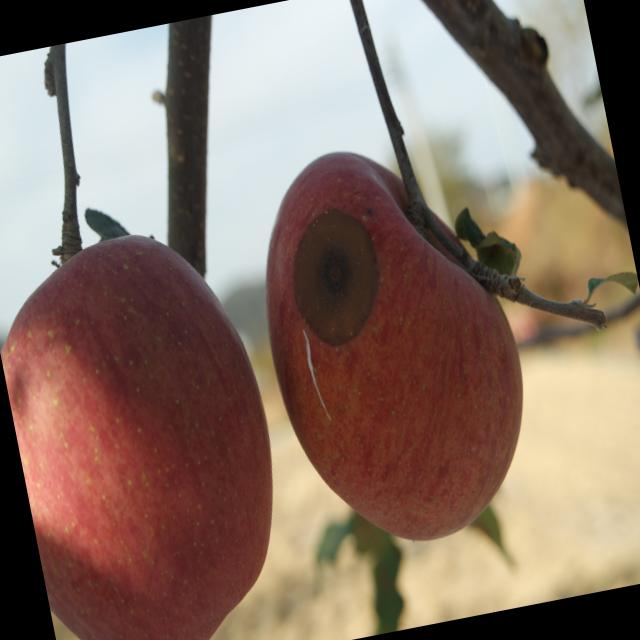rotten: (227, 110, 560, 581)
